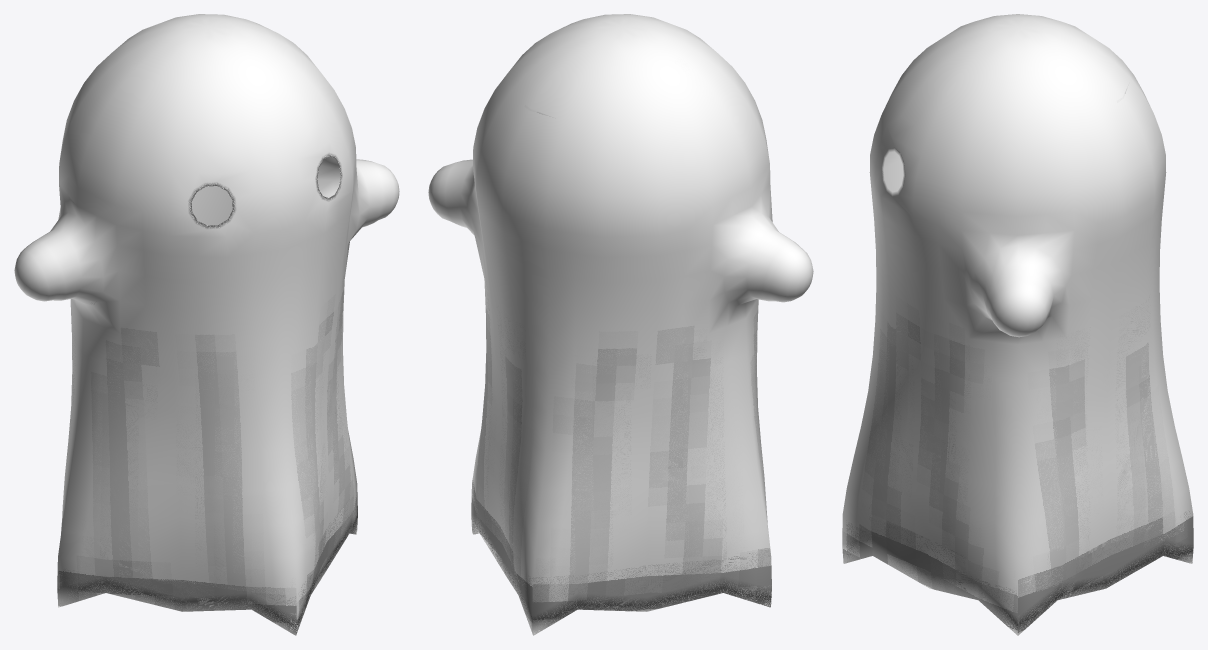
File: Cute Ghost.glb
The picture shows the model from 3 angles, left to right: view 1: azimuth 30°, elevation 25°; view 2: azimuth 150°, elevation 25°; view 3: azimuth 270°, elevation 25°; orthographic projection.
Parts seen in each view (by area): view 1: Sphere; view 2: Sphere; view 3: Sphere.
Part boxes in pixels (<box>): Sphere: <box>14,14,399,635</box>; Sphere: <box>428,14,813,635</box>; Sphere: <box>842,14,1193,635</box>.
Bounding box in the file's own units: 2.55 × 3.52 × 2.09.
Materials: 1 (1 with a texture image).
